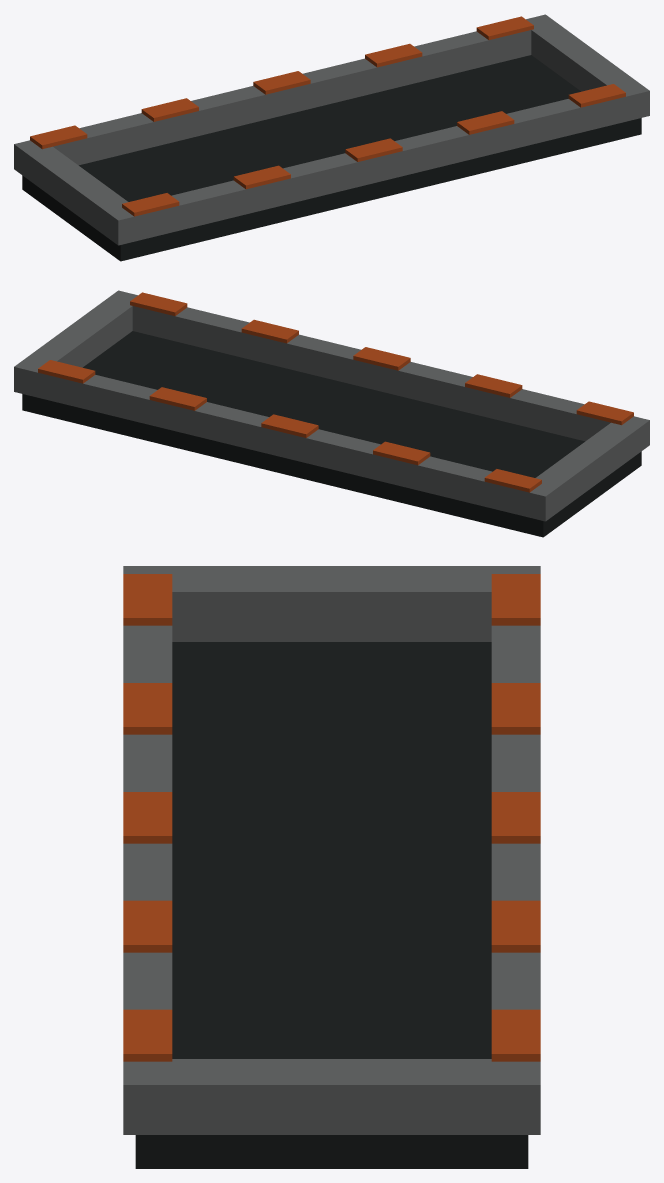
Rendered from CMU3DAlmayerBlastDoorOpen.glb.
3 views of the same model, one above another, from view 1: azimuth 30°, elevation 25°; view 2: azimuth 150°, elevation 25°; view 3: azimuth 270°, elevation 25° (orthographic). The views are drawn at different scales.
Parts seen in each view (by area): view 1: floor recess, floor shutter lip (×2), retracted warning marker (×10), recess end cap (×2); view 2: floor recess, floor shutter lip (×2), retracted warning marker (×10), recess end cap (×2); view 3: floor recess, recess end cap (×2), floor shutter lip (×2), retracted warning marker (×10).
Part boxes in pixels (x1,y1,x2,y2): floor recess: [22, 55, 641, 261]; floor shutter lip (×2): [14, 14, 649, 245]; retracted warning marker (×10): [30, 16, 625, 216]; recess end cap (×2): [26, 23, 637, 236]; floor recess: [22, 331, 641, 537]; floor shutter lip (×2): [14, 290, 649, 521]; retracted warning marker (×10): [38, 292, 633, 492]; recess end cap (×2): [26, 299, 637, 512]; floor recess: [135, 642, 528, 1168]; recess end cap (×2): [172, 566, 491, 1134]; floor shutter lip (×2): [123, 566, 540, 1134]; retracted warning marker (×10): [123, 574, 540, 1061].
Size of the model in its own units: 1 by 0.087 by 0.34.
